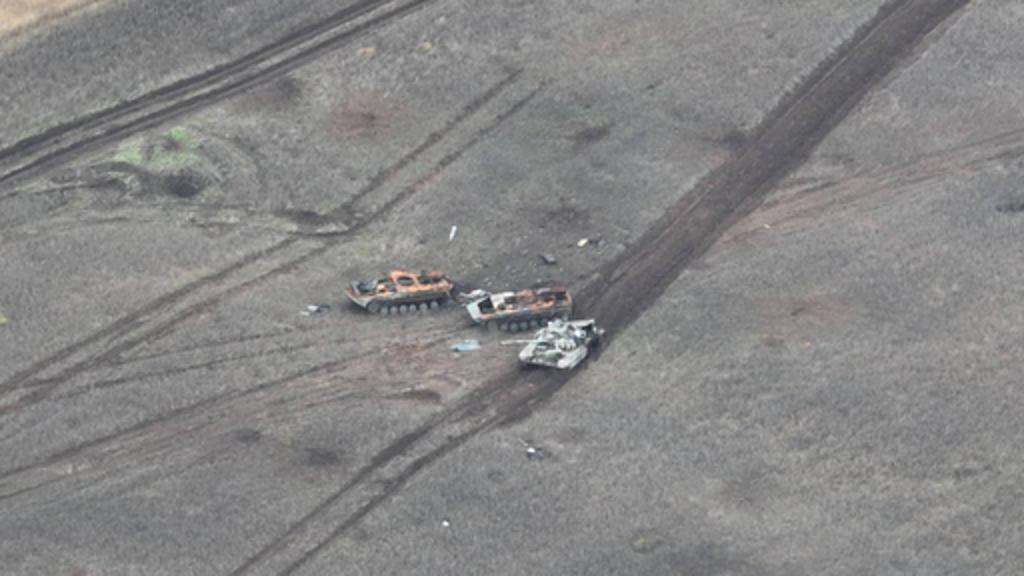APC-IFV: (462, 284, 586, 342), (340, 264, 450, 314)
TANK: (488, 316, 614, 386)
